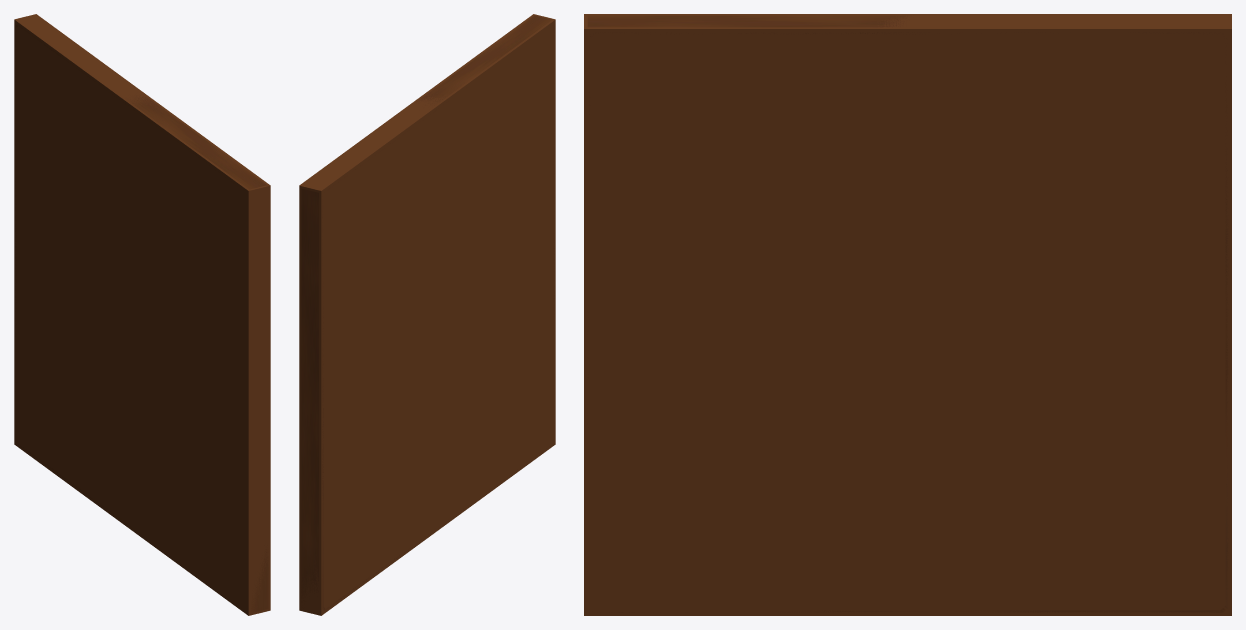
The model's file is Window02_3x3_light.fbx.
3 views of the same model, side by side, from view 1: azimuth 30°, elevation 25°; view 2: azimuth 150°, elevation 25°; view 3: azimuth 270°, elevation 25° (orthographic). The views are drawn at different scales.
Parts seen in each view (by area): view 1: Cube#2, window#2; view 2: Cube#2, window#2; view 3: Cube#2, window#2.
Boxes of the visible parts, x1=… form: Cube#2: x1=14, y1=14, x2=270, y2=615; window#2: x1=15, y1=24, x2=268, y2=612; Cube#2: x1=299, y1=14, x2=555, y2=615; window#2: x1=301, y1=15, x2=554, y2=610; Cube#2: x1=584, y1=14, x2=1231, y2=615; window#2: x1=587, y1=15, x2=1228, y2=612.
Bounding box in the file's own units: 0.3283 × 6 × 6.
Materials: 2 (2 with a texture image).
